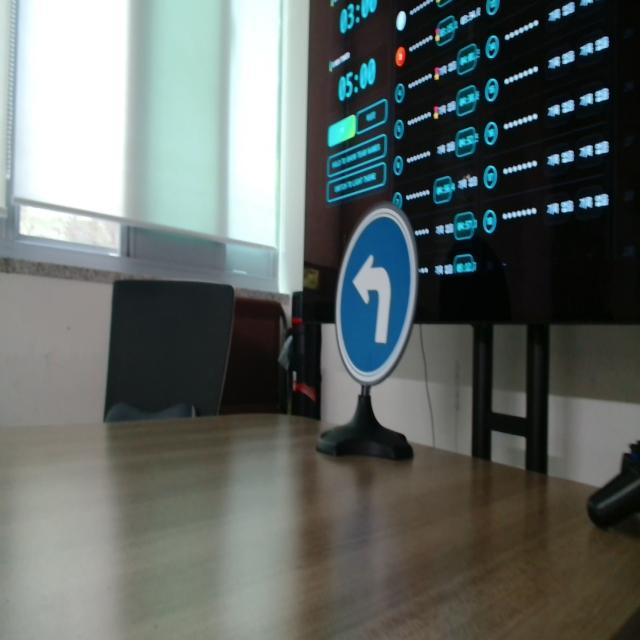left_direction: (333, 200, 415, 389)
